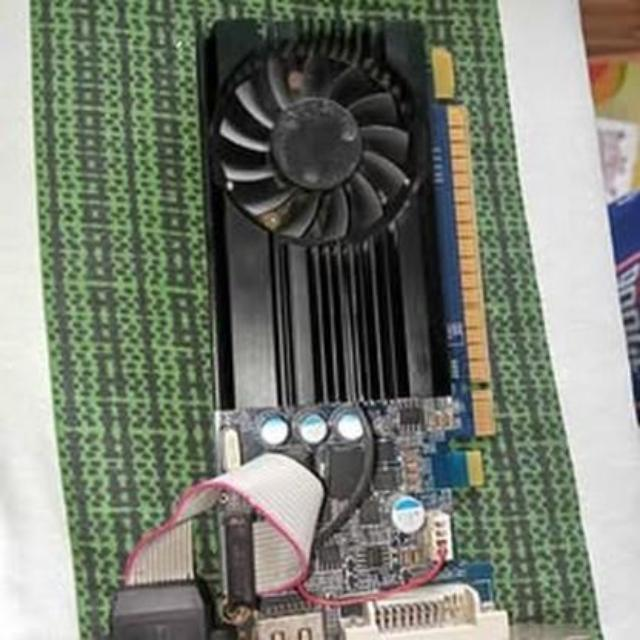GPU: (192, 4, 506, 628)
